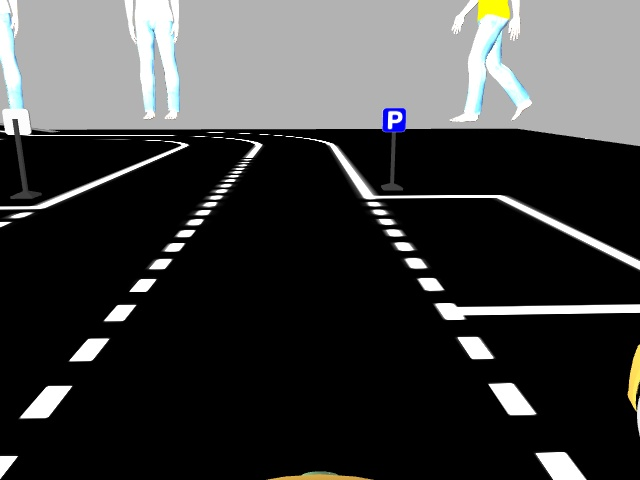Parking: (380, 106, 406, 133)
